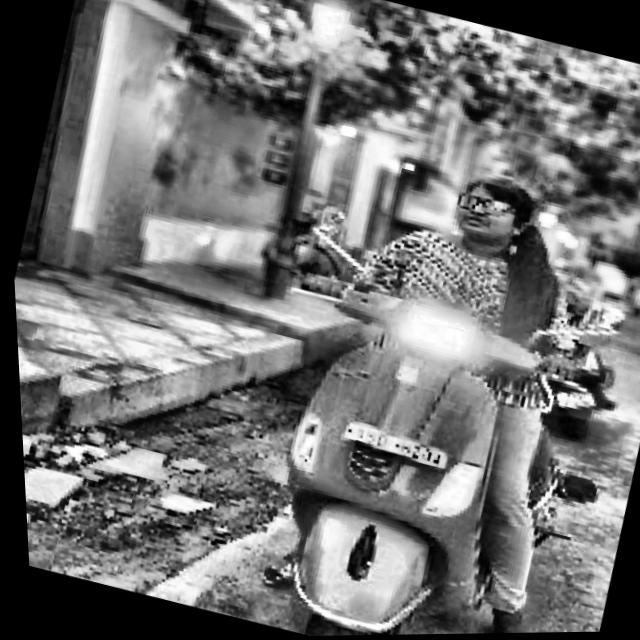motorcycle: (201, 187, 640, 638)
